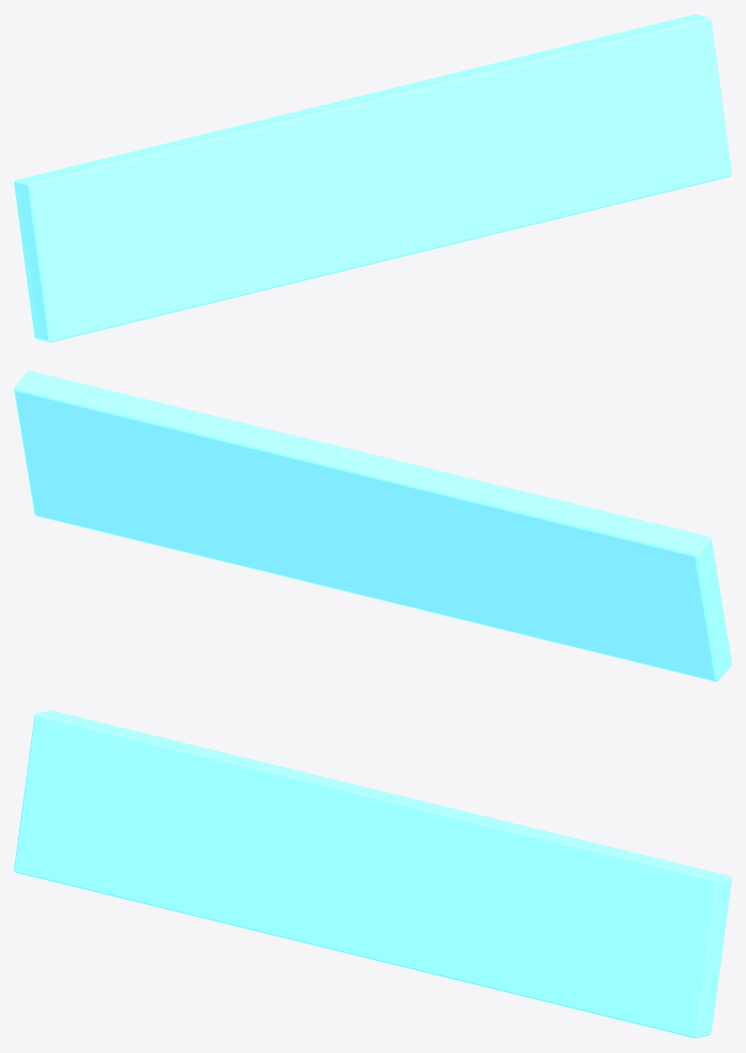
The model's file is GEO_Interior_Screens.glb.
The picture shows the model from 3 angles, top to bottom: view 1: azimuth 30°, elevation 25°; view 2: azimuth 150°, elevation 25°; view 3: azimuth 330°, elevation 25°; orthographic projection.
Parts seen in each view (by area): view 1: GEO_Interior_Screens; view 2: GEO_Interior_Screens; view 3: GEO_Interior_Screens.
Boxes of the visible parts, x1,y1,x2,y2 form: GEO_Interior_Screens: [14, 14, 731, 342]; GEO_Interior_Screens: [14, 371, 731, 681]; GEO_Interior_Screens: [14, 710, 731, 1038].
Size of the model in its own units: 0.48 by 0.1007 by 0.0442.
